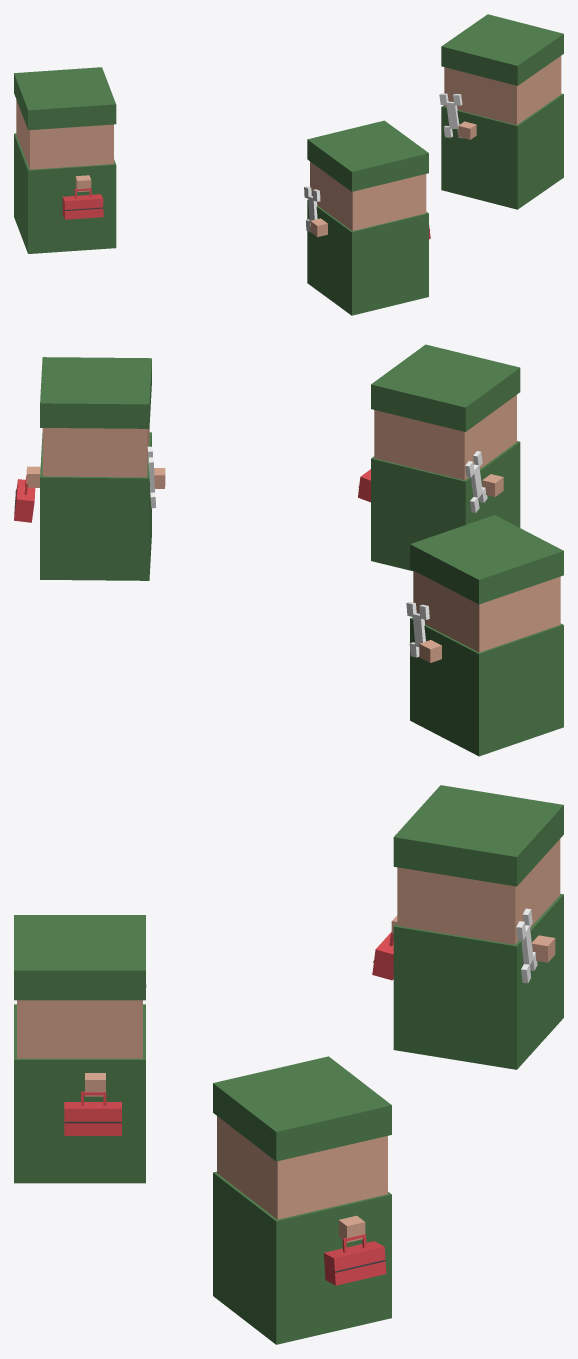
File: greinEngineer.gltf
3 renders of one model, top to bottom at view 1: azimuth 30°, elevation 25°; view 2: azimuth 150°, elevation 25°; view 3: azimuth 270°, elevation 25°, orthographic. The views are drawn at different scales.
Visible parts, largest first — view 1: Cube.028, Cube.003, Cube.044, Cube.030, Cube.001, Cube, Cube.031, Cube.002, Cube.029, Cube.046, Cube.045, Cube.047 (+1 smaller); view 2: Cube.044, Cube.003, Cube.046, Cube.028, Cube.047, Cube, Cube.045, Cube.002, Cube.031, Cube.030, Cube.029, Cube.001 (+1 smaller); view 3: Cube.028, Cube.044, Cube.003, Cube.046, Cube.030, Cube.029, Cube.047, Cube.031, Cube.045, Cube.002, Cube.001, Cube (+3 smaller).
Part boxes in pixels (left/top/right/bottom): Cube.028: left=441, top=14, right=563, bottom=85; Cube.003: left=307, top=120, right=428, bottom=191; Cube.044: left=14, top=67, right=116, bottom=130; Cube.030: left=441, top=136, right=563, bottom=209; Cube.001: left=307, top=242, right=428, bottom=315; Cube: left=307, top=199, right=428, bottom=273; Cube.031: left=441, top=93, right=563, bottom=167; Cube.002: left=310, top=161, right=426, bottom=231; Cube.029: left=444, top=56, right=561, bottom=124; Cube.046: left=14, top=176, right=116, bottom=253; Cube.045: left=16, top=100, right=113, bottom=169; Cube.047: left=14, top=133, right=116, bottom=212; Cube.044: left=410, top=515, right=563, bottom=604; Cube.003: left=371, top=344, right=520, bottom=431; Cube.046: left=410, top=669, right=563, bottom=756; Cube.028: left=40, top=357, right=151, bottom=428; Cube.047: left=410, top=617, right=563, bottom=705; Cube: left=371, top=441, right=520, bottom=529; Cube.045: left=413, top=570, right=560, bottom=652; Cube.002: left=374, top=395, right=516, bottom=480; Cube.031: left=40, top=432, right=151, bottom=529; Cube.030: left=40, top=505, right=151, bottom=580; Cube.029: left=42, top=428, right=149, bottom=477; Cube.001: left=371, top=493, right=520, bottom=570; Cube.028: left=213, top=1056, right=391, bottom=1161; Cube.044: left=393, top=785, right=563, bottom=886; Cube.003: left=14, top=915, right=145, bottom=1000; Cube.046: left=393, top=956, right=563, bottom=1069; Cube.030: left=213, top=1234, right=391, bottom=1344; Cube.029: left=217, top=1116, right=387, bottom=1219; Cube.047: left=393, top=894, right=563, bottom=1008; Cube.031: left=213, top=1171, right=391, bottom=1282; Cube.045: left=397, top=839, right=560, bottom=944; Cube.002: left=17, top=1000, right=142, bottom=1058; Cube.001: left=14, top=1122, right=145, bottom=1183; Cube: left=14, top=1004, right=145, bottom=1121.
Size of the model in its own units: 5.72 by 1.63 by 3.81.
